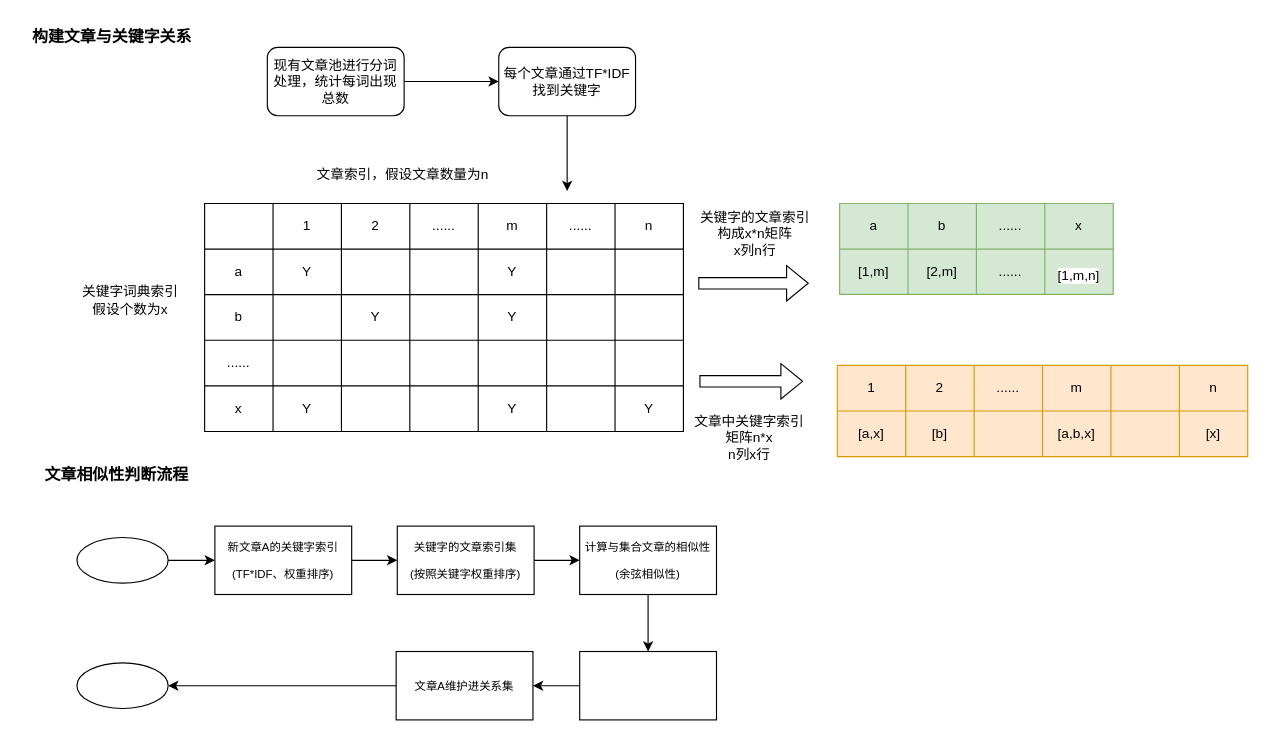
The diagram is 1268 pixels wide and 740 high, and some of its shapes have lost their labels. Here are the shapes that lost their labels. From the top down, the box of each, then its label:
(76, 536, 168, 583): 开始
(76, 662, 168, 709): 结束
(579, 650, 716, 720): 根据需求执行 排重或获取相似信息
